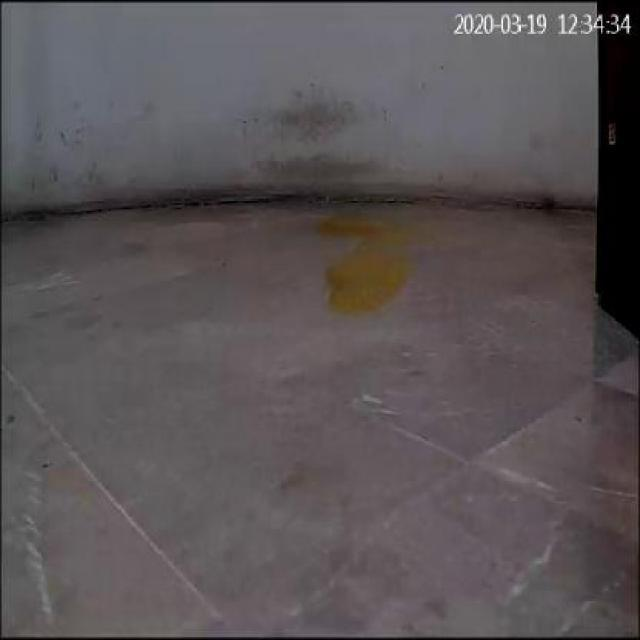spill: (318, 206, 410, 314)
